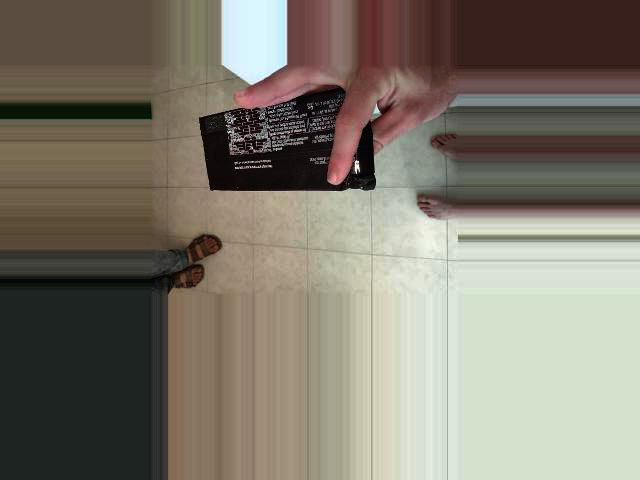chocolate: (251, 106, 360, 287)
